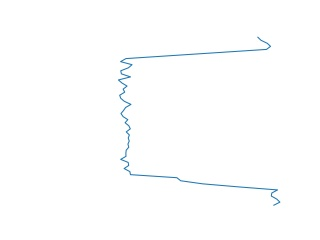distributaryChannelFill: (113, 36, 285, 204)
